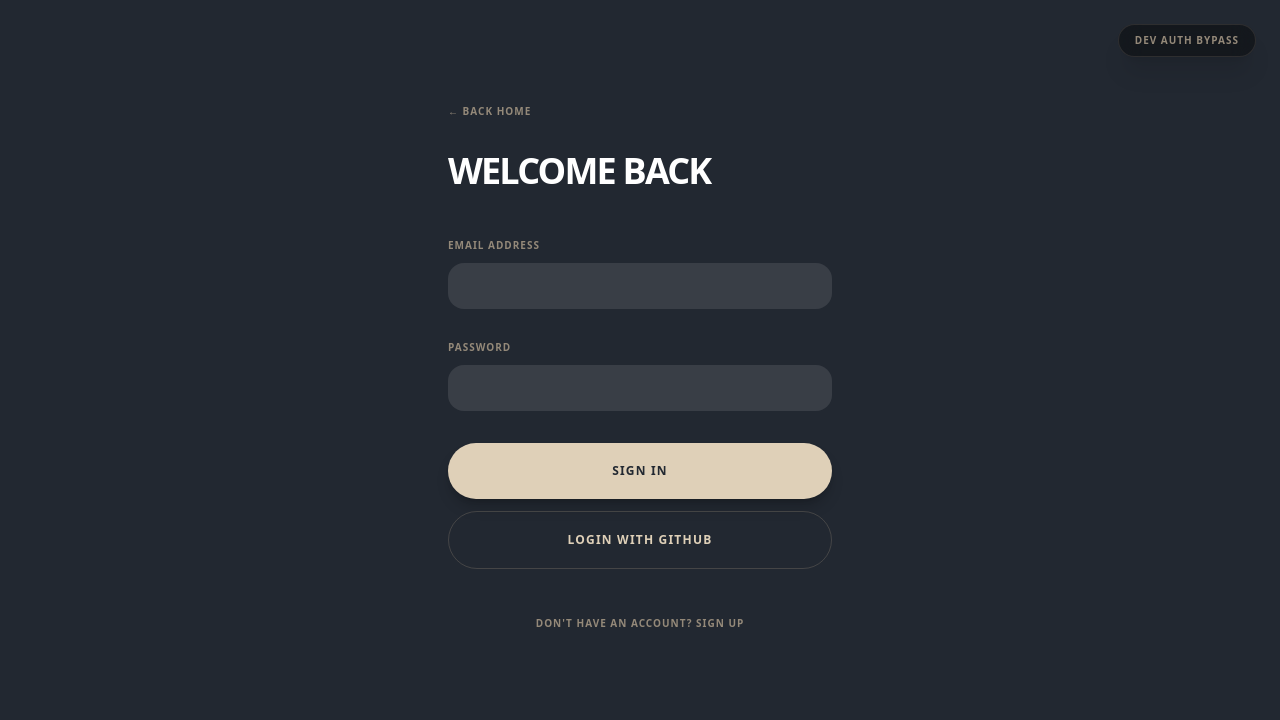
Dashboard Flows › should allow adding a new project
Click the button "Dev Auth Bypass".
click(1187, 41)  # box [1118,24,1256,57]
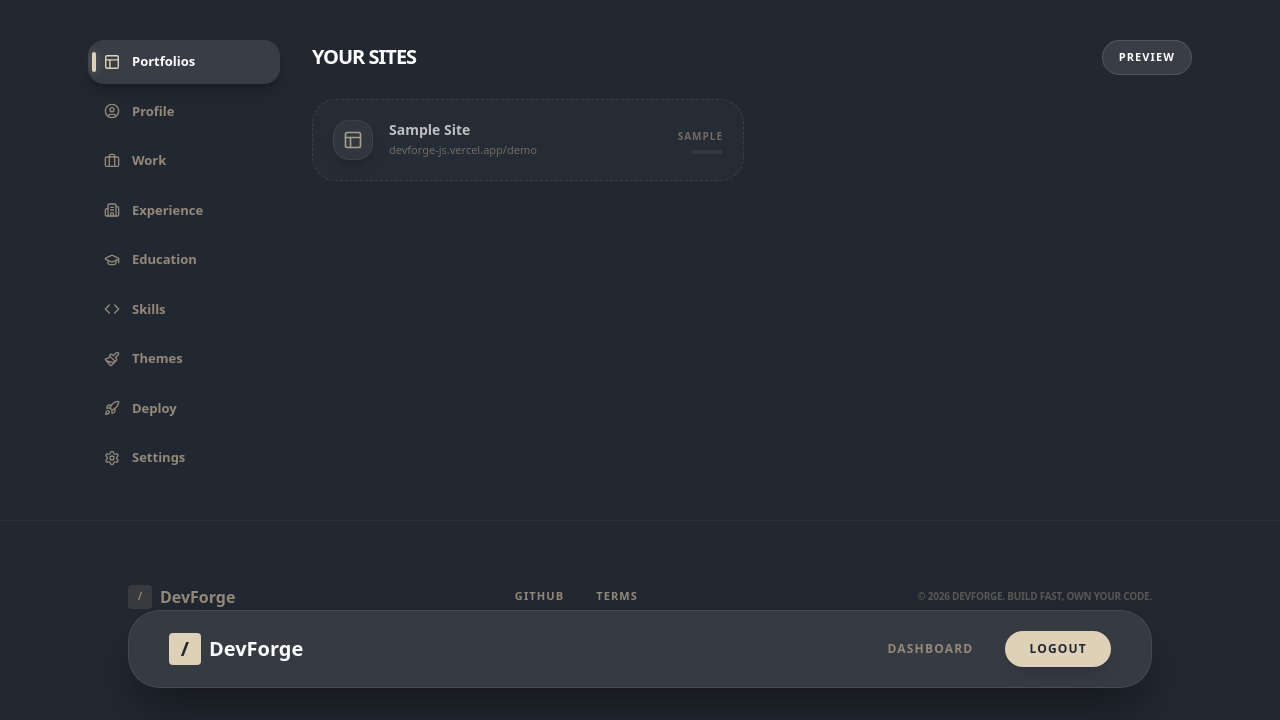
Click the button "Work".
click(184, 161)  # box [88,139,280,183]
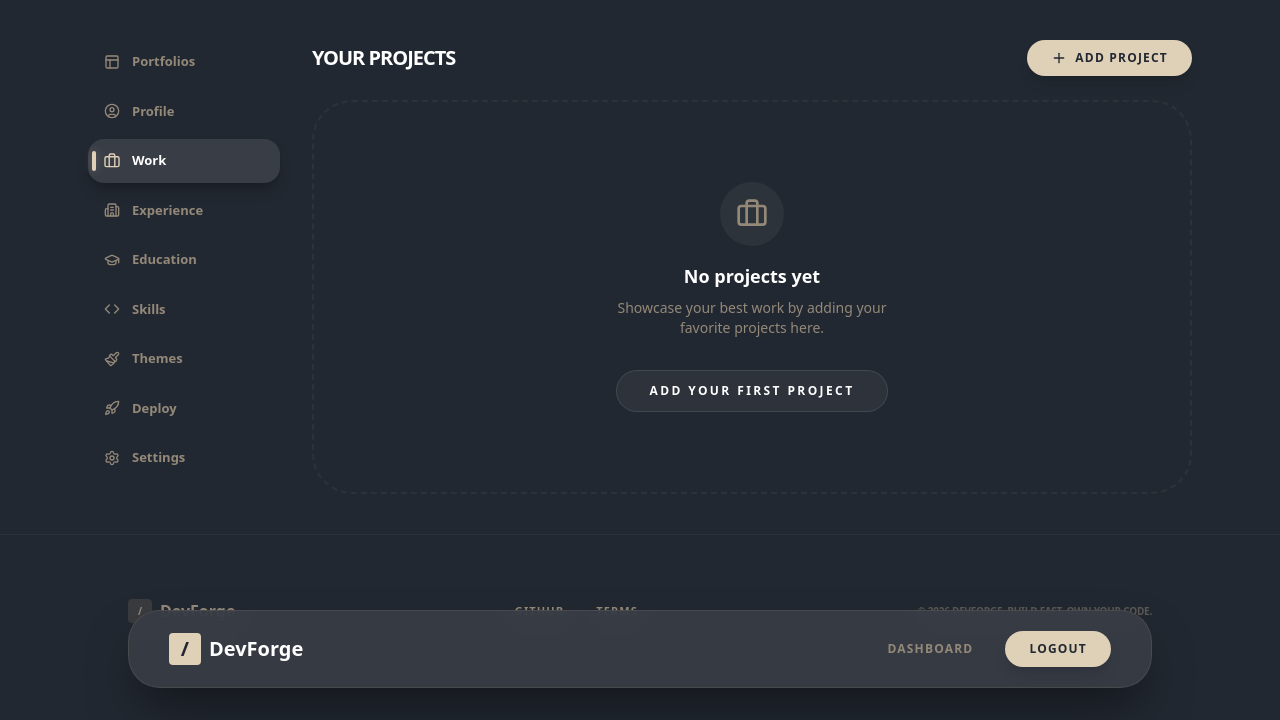
expect the heading "No projects yet" is shown: met, box [684,262,820,290]
Click the button "Add Your First Project".
click(753, 391)  # box [617,370,888,412]
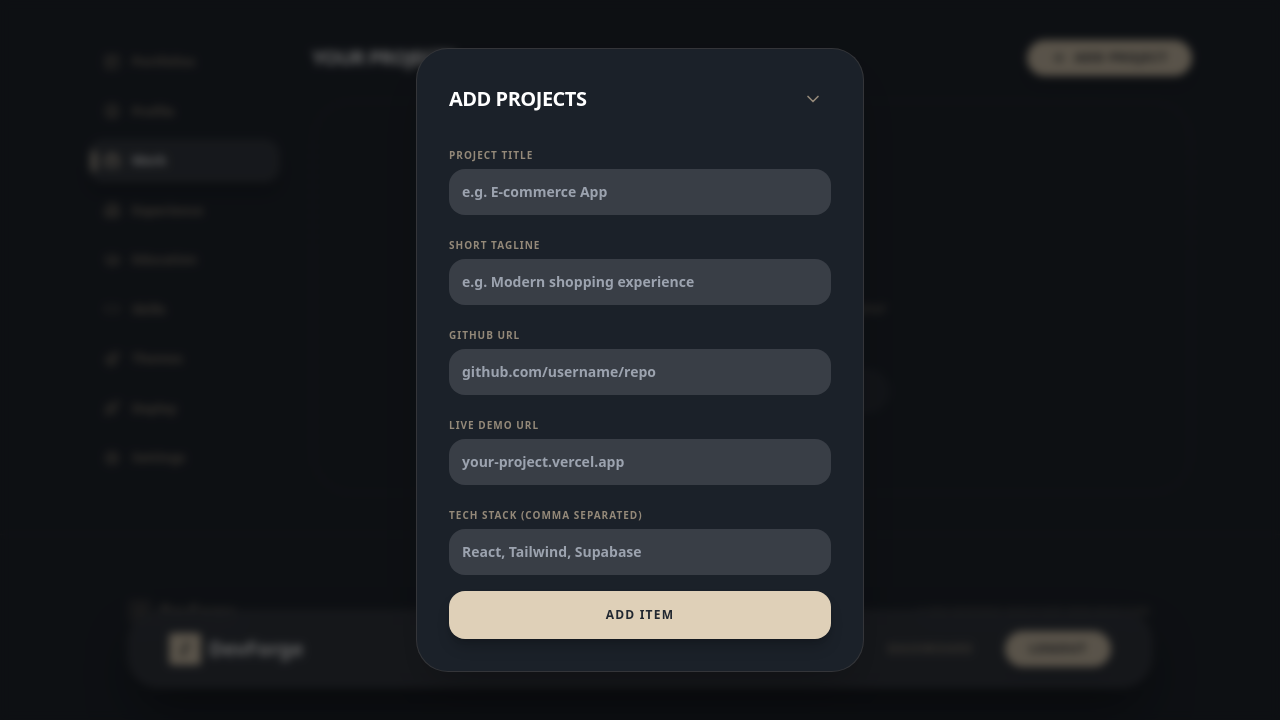
Type "Test Project" into the field with placeholder "e.g. E-commerce App".
click(640, 192); type("Test Project")  # box [449,169,831,215]
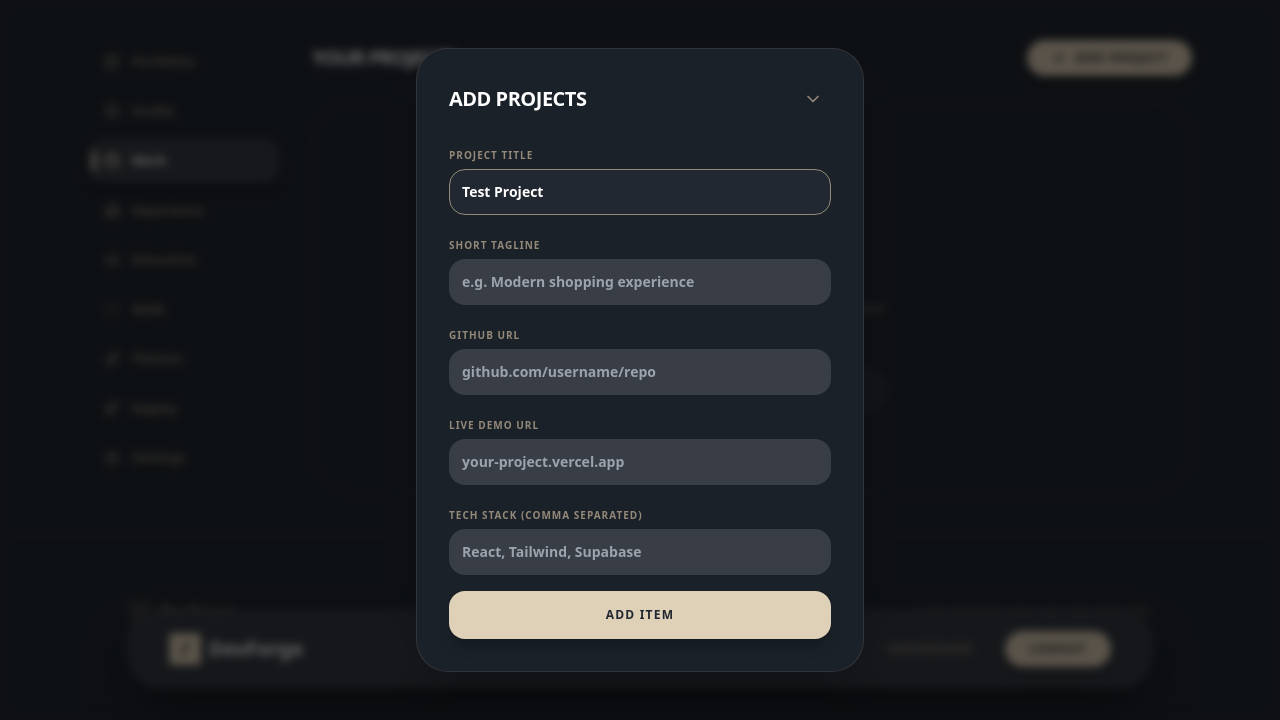
Type "Test Tagline" into the field with placeholder "e.g. Modern shopping experience".
click(640, 282); type("Test Tagline")  # box [449,259,831,305]
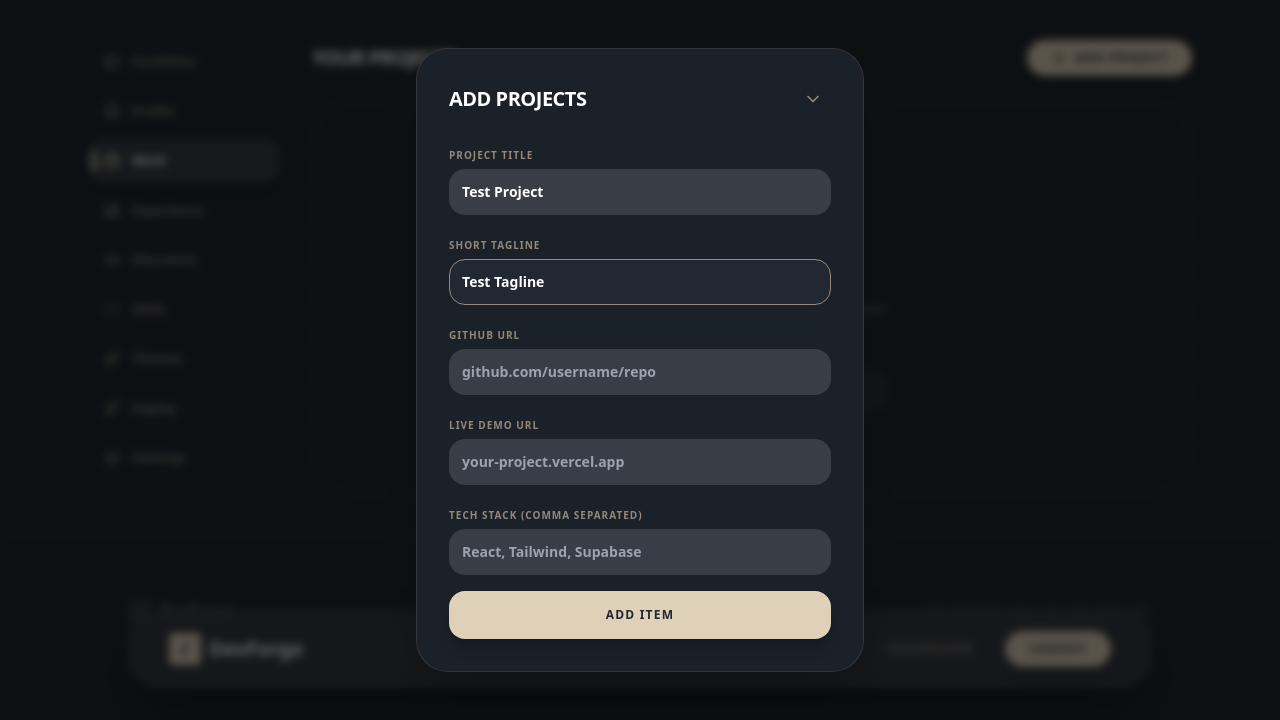
Click the button "Add Item".
click(640, 615)  # box [449,591,831,639]
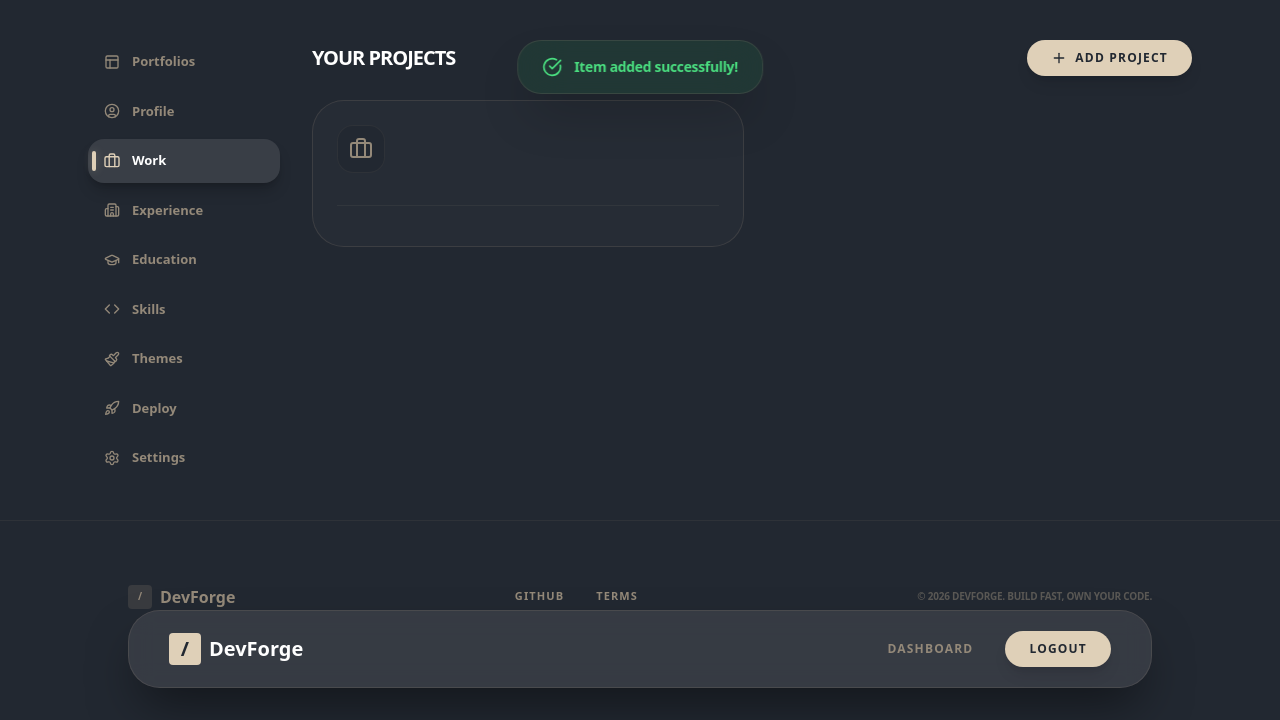
expect the text "Item added successfully" is shown: met, box [574,57,738,76]
